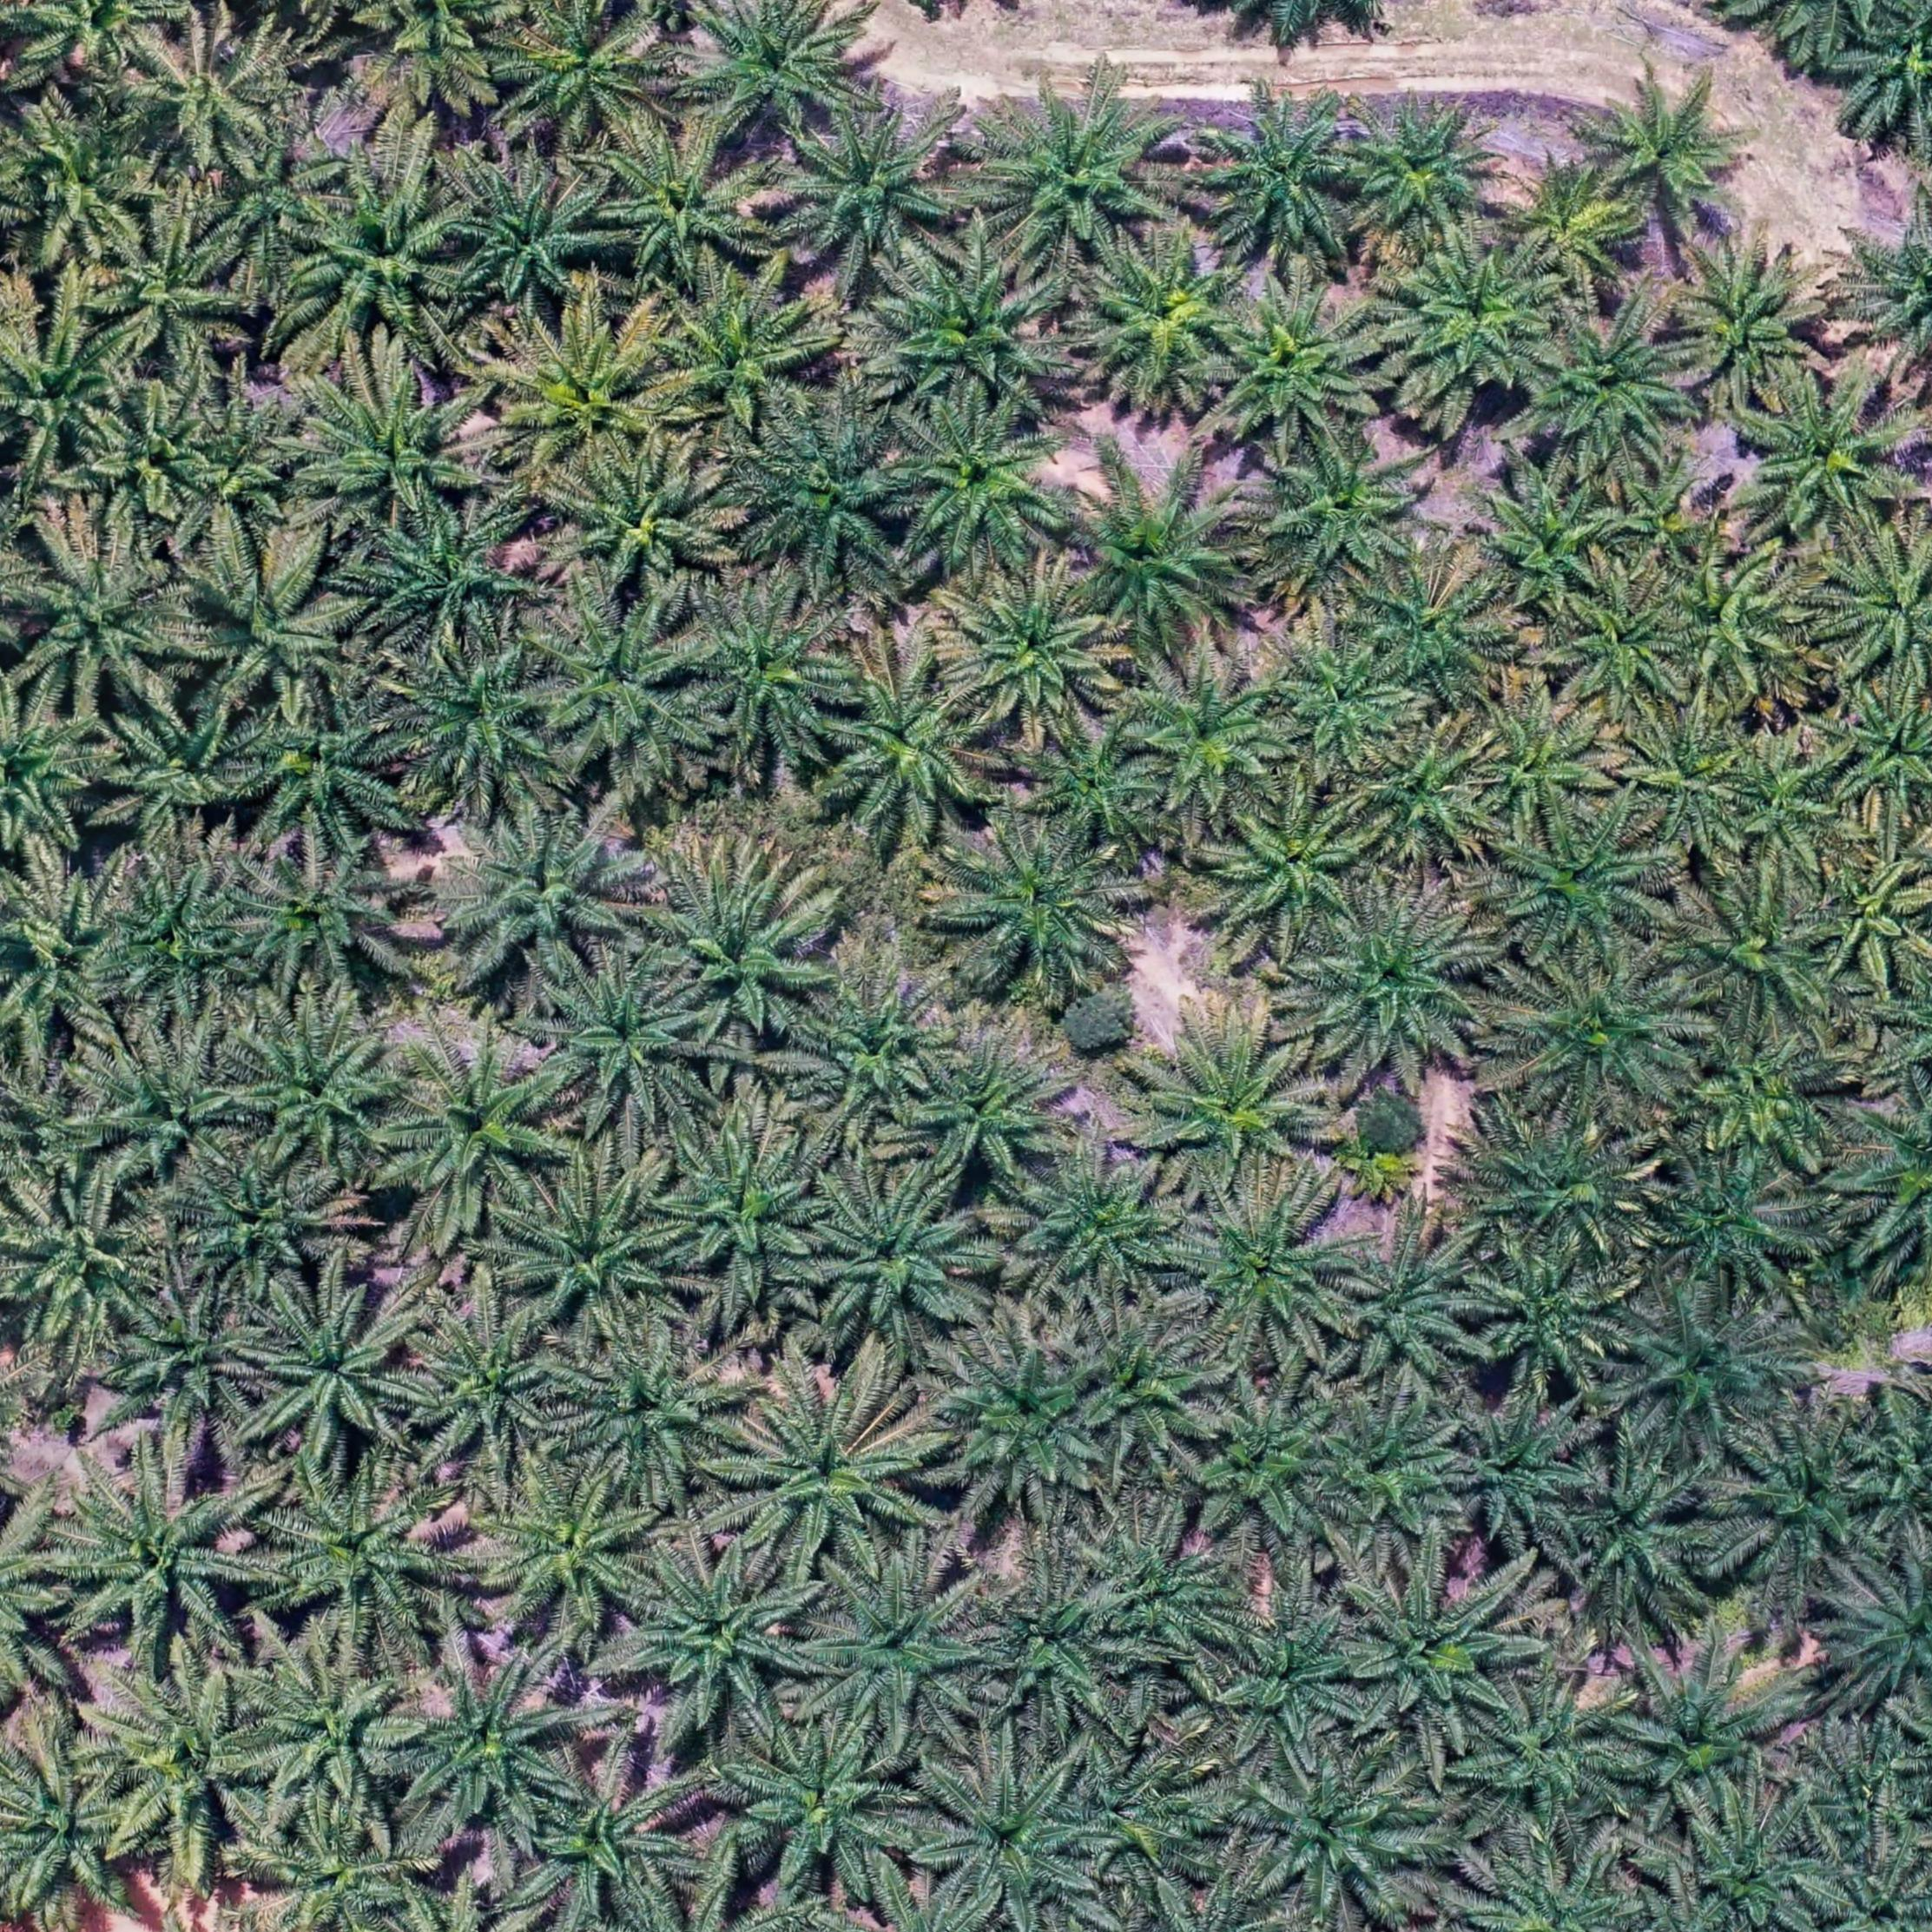palmtree: (43, 1457, 270, 1668), (425, 799, 649, 995), (723, 1371, 935, 1573), (973, 84, 1187, 278), (863, 239, 1081, 429), (718, 1714, 931, 1907), (254, 1469, 467, 1660), (375, 1035, 575, 1237), (279, 169, 481, 368), (1296, 887, 1500, 1078), (623, 1542, 826, 1735), (795, 1556, 999, 1746), (90, 1667, 284, 1866), (1607, 1638, 1811, 1826), (1068, 454, 1266, 648), (391, 1647, 589, 1838), (768, 103, 973, 285), (644, 852, 836, 1045), (932, 1323, 1124, 1516), (799, 1170, 996, 1357), (1045, 1744, 1241, 1932), (13, 528, 205, 717), (1579, 57, 1775, 241), (1246, 1746, 1449, 1922), (241, 1283, 432, 1469), (296, 366, 499, 541), (467, 1466, 663, 1645), (733, 406, 923, 590), (947, 819, 1144, 997), (819, 653, 1003, 842), (234, 1640, 426, 1822), (1139, 1012, 1336, 1188), (482, 309, 681, 484), (1500, 959, 1706, 1127), (534, 592, 721, 776), (1339, 1558, 1530, 1737), (1174, 1184, 1367, 1362), (1380, 234, 1573, 410), (588, 121, 779, 299), (885, 397, 1078, 572), (557, 1327, 752, 1500), (1731, 371, 1920, 549), (1205, 276, 1394, 454), (1611, 1293, 1806, 1464), (2, 1175, 179, 1362), (1717, 1412, 1893, 1600), (227, 1002, 419, 1176), (926, 1751, 1115, 1925), (1549, 1445, 1726, 1630), (1074, 233, 1260, 409), (231, 685, 419, 857), (498, 1171, 686, 1342), (1250, 430, 1441, 598), (679, 584, 860, 762), (231, 833, 424, 999), (186, 541, 367, 715), (518, 1755, 704, 1924), (546, 442, 736, 606), (1522, 304, 1704, 475), (657, 1119, 835, 1293), (406, 1303, 586, 1474), (1197, 100, 1378, 269), (386, 645, 569, 811), (653, 274, 837, 438), (174, 1140, 354, 1308), (1662, 236, 1841, 405), (541, 963, 715, 1134), (1327, 1219, 1496, 1395), (80, 1025, 260, 1190), (1186, 1385, 1360, 1555), (1006, 1145, 1189, 1307), (1203, 1603, 1377, 1771), (1201, 788, 1381, 950), (359, 494, 546, 649), (111, 1278, 280, 1451), (1474, 1110, 1664, 1263), (1493, 806, 1675, 965), (950, 569, 1125, 734), (680, 0, 874, 148), (96, 689, 272, 854), (1467, 1670, 1646, 1830), (490, 3, 677, 156), (1122, 655, 1294, 821), (444, 157, 624, 314), (96, 210, 260, 379), (0, 1736, 146, 1926), (1678, 876, 1850, 1035), (0, 864, 140, 1060), (1645, 1150, 1819, 1307), (1685, 1017, 1862, 1170), (97, 864, 264, 1025), (908, 1031, 1075, 1188), (5, 103, 161, 272), (1340, 100, 1511, 252), (131, 23, 296, 181), (974, 1570, 1140, 1725), (788, 974, 957, 1125), (1658, 548, 1819, 704), (1072, 1311, 1231, 1468), (1349, 557, 1516, 707), (1313, 1403, 1477, 1555), (1078, 1511, 1245, 1660), (1474, 1244, 1642, 1391), (0, 309, 137, 489), (332, 0, 530, 123), (1474, 469, 1635, 617), (1441, 1398, 1599, 1550), (1613, 702, 1763, 859), (170, 392, 317, 549), (241, 1810, 419, 1932), (1277, 634, 1426, 775), (1022, 721, 1174, 858), (1499, 156, 1649, 294), (1548, 573, 1694, 715), (1351, 726, 1499, 864), (83, 388, 226, 531), (1834, 183, 1932, 389), (211, 124, 352, 267), (1471, 692, 1617, 828), (0, 682, 109, 860), (1836, 1085, 1931, 1289), (1681, 1805, 1831, 1932), (1816, 528, 1932, 689), (1454, 1843, 1658, 1932), (1806, 1722, 1932, 1864), (1828, 1550, 1932, 1715), (1728, 742, 1853, 877), (1601, 460, 1731, 577), (1819, 854, 1932, 979), (1837, 0, 1931, 139), (1835, 682, 1932, 816), (1856, 1390, 1932, 1546)
